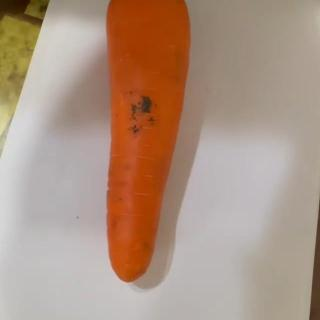carrot: (104, 0, 192, 282)
